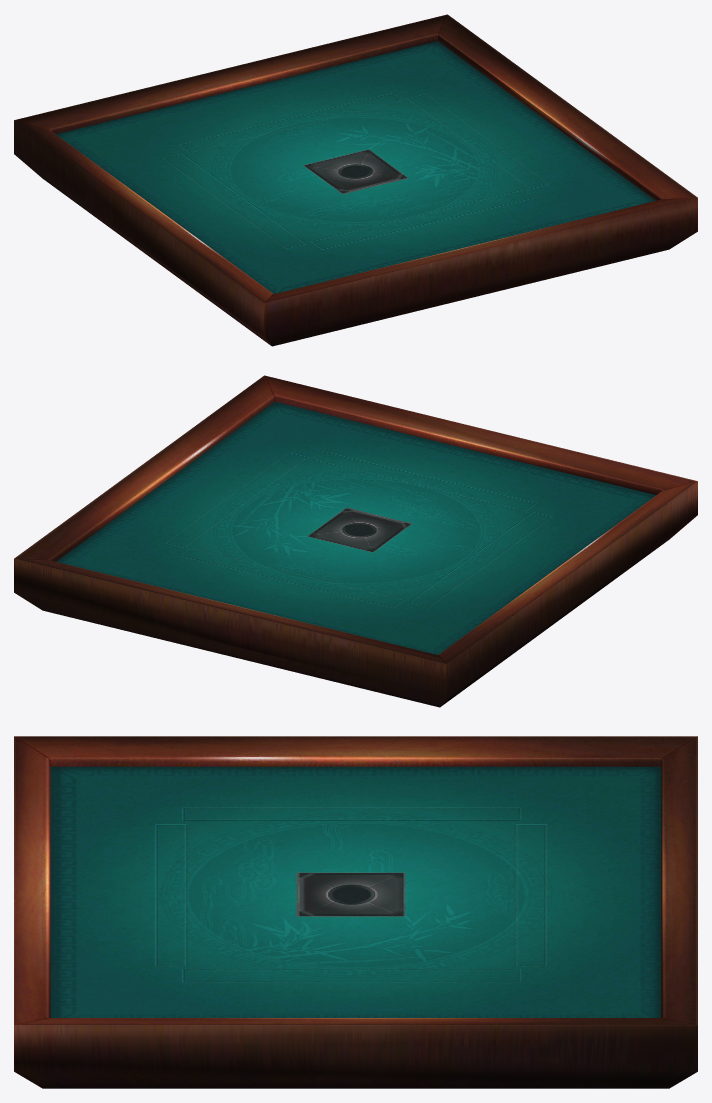
Rendered from Tabel_01.FBX.
3 renders of one model, top to bottom at view 1: azimuth 30°, elevation 25°; view 2: azimuth 150°, elevation 25°; view 3: azimuth 270°, elevation 25°, orthographic. The views are drawn at different scales.
Visible parts, largest first — view 1: Tabel_01; view 2: Tabel_01; view 3: Tabel_01.
Part boxes in pixels (bbox=[...]): Tabel_01: bbox=[14, 14, 697, 346]; Tabel_01: bbox=[14, 375, 697, 707]; Tabel_01: bbox=[14, 736, 697, 1088].
Size of the model in its own units: 1.04 by 0.127 by 1.04.
Materials: 1 (1 with a texture image).
